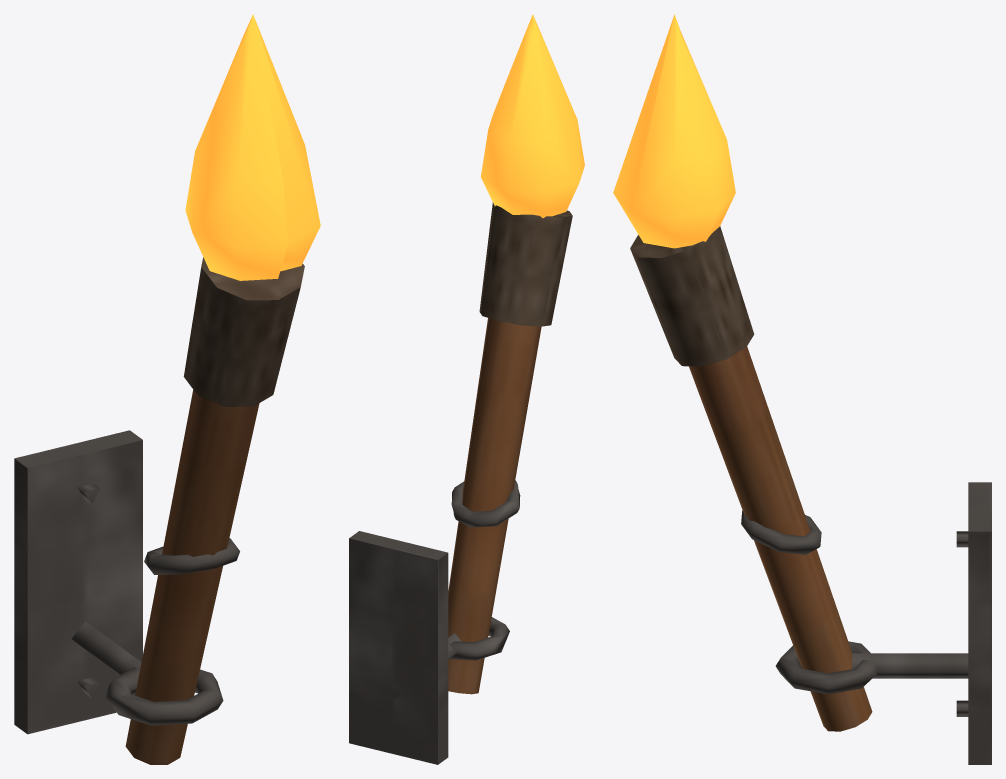
File: wall-torch.lod1.glb
3 views of the same model, side by side, from view 1: azimuth 30°, elevation 25°; view 2: azimuth 150°, elevation 25°; view 3: azimuth 270°, elevation 25° (orthographic). The views are drawn at different scales.
Parts seen in each view (by area): view 1: WallTorch_iron, Flame, WallTorch_oak, WallTorch_cloth; view 2: WallTorch_iron, WallTorch_oak, Flame, WallTorch_cloth; view 3: WallTorch_oak, Flame, WallTorch_iron, WallTorch_cloth.
Part boxes in pixels (x1,y1,x2,y2): WallTorch_iron: (14, 430, 239, 734); Flame: (185, 14, 320, 280); WallTorch_oak: (125, 390, 259, 764); WallTorch_cloth: (183, 257, 304, 406); WallTorch_iron: (349, 480, 520, 764); WallTorch_oak: (448, 318, 541, 694); Flame: (481, 14, 584, 217); WallTorch_cloth: (479, 202, 572, 326); WallTorch_oak: (689, 346, 872, 731); Flame: (613, 14, 735, 248); WallTorch_iron: (741, 482, 991, 764); WallTorch_cloth: (630, 226, 754, 366).
Bounding box in the file's own units: 0.105 × 0.6853 × 0.3238.
Materials: 4 (3 with a texture image).
